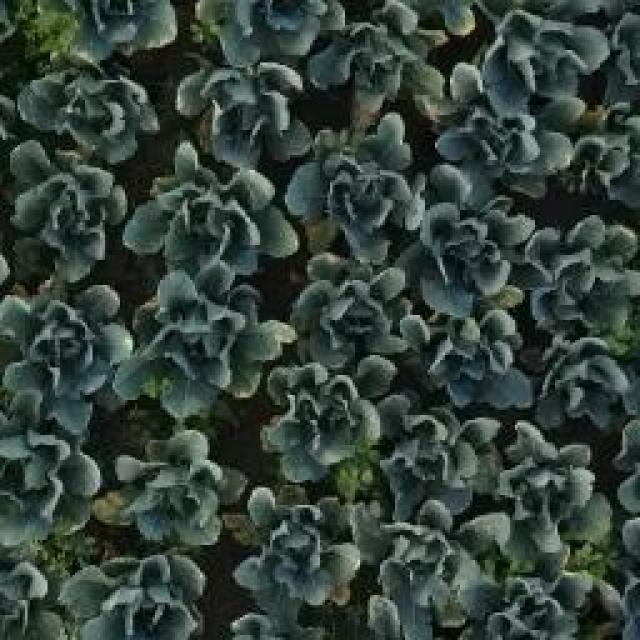cabbage: (133, 275, 270, 423), (289, 118, 429, 260), (0, 278, 131, 419), (408, 164, 534, 307), (364, 498, 502, 627), (230, 484, 366, 614), (432, 90, 582, 204), (310, 0, 452, 120), (494, 419, 614, 558), (106, 429, 244, 547), (468, 0, 614, 108), (373, 396, 501, 516), (520, 205, 640, 333), (15, 55, 154, 163), (174, 61, 311, 166), (401, 297, 532, 406), (61, 550, 210, 640), (0, 421, 104, 549), (263, 345, 375, 463), (10, 159, 126, 271), (162, 170, 264, 273), (534, 330, 638, 427), (306, 260, 408, 356), (193, 0, 346, 63), (55, 0, 181, 49)
